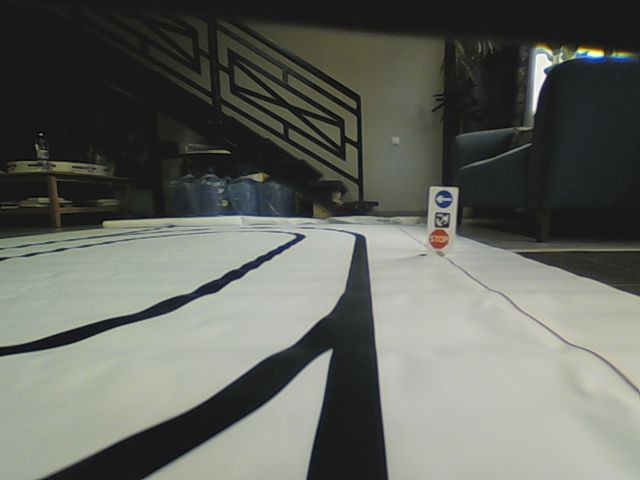Stop: (429, 229, 450, 250)
